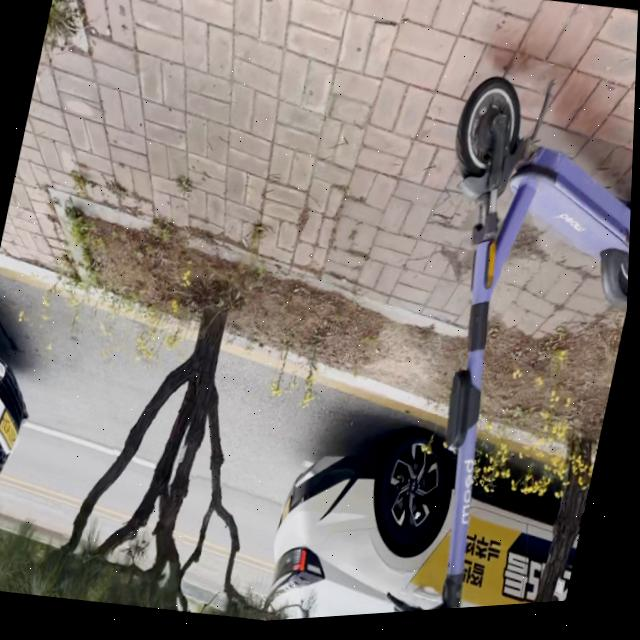kickboard_ok: (431, 66, 636, 285)
